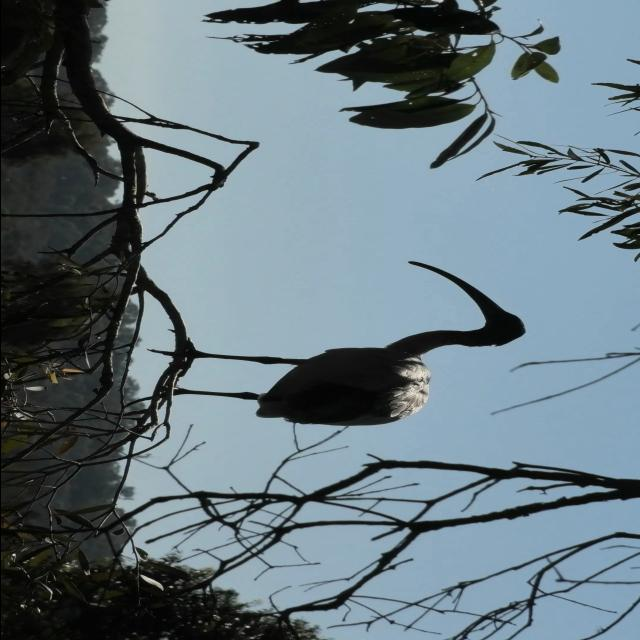Birds-Ibis: (119, 260, 532, 428)
